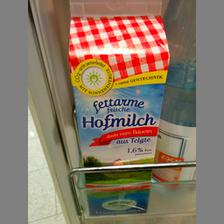Milch: (64, 1, 170, 217)
